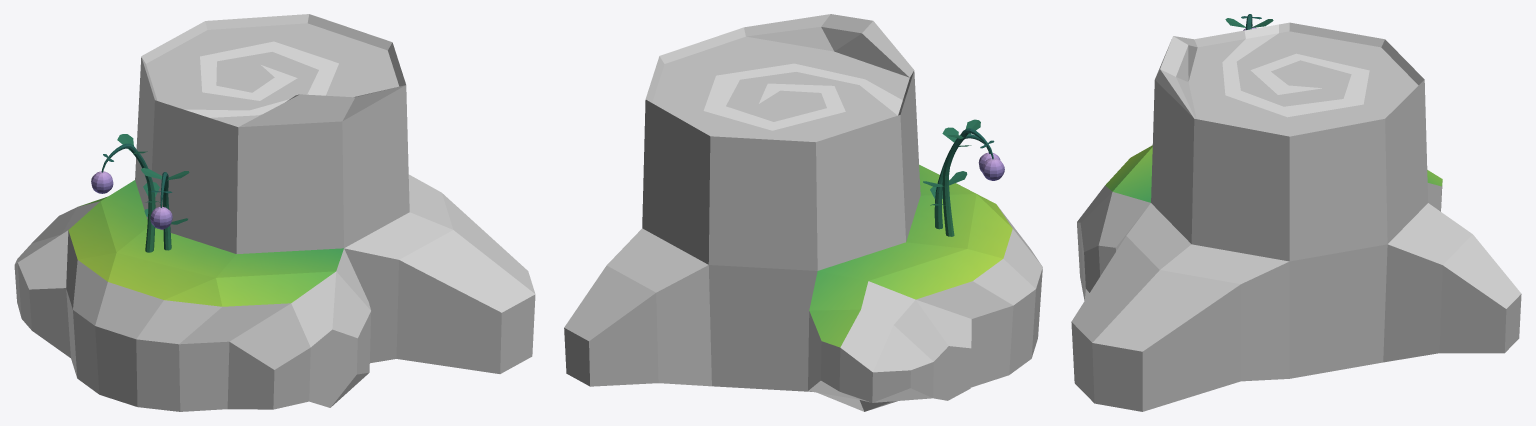
The model's file is Tree_Stump02.fbx.
3 views of the same model, side by side, from view 1: azimuth 30°, elevation 25°; view 2: azimuth 150°, elevation 25°; view 3: azimuth 270°, elevation 25° (orthographic). The views are drawn at different scales.
Visible parts, largest first — view 1: Stump; view 2: Stump; view 3: Stump.
Part boxes in pixels (x1,y1,x2,y2): Stump: (14,14,535,411); Stump: (564,14,1042,411); Stump: (1071,14,1521,411).
Size of the model in its own units: 77.13 by 53.28 by 77.11.
